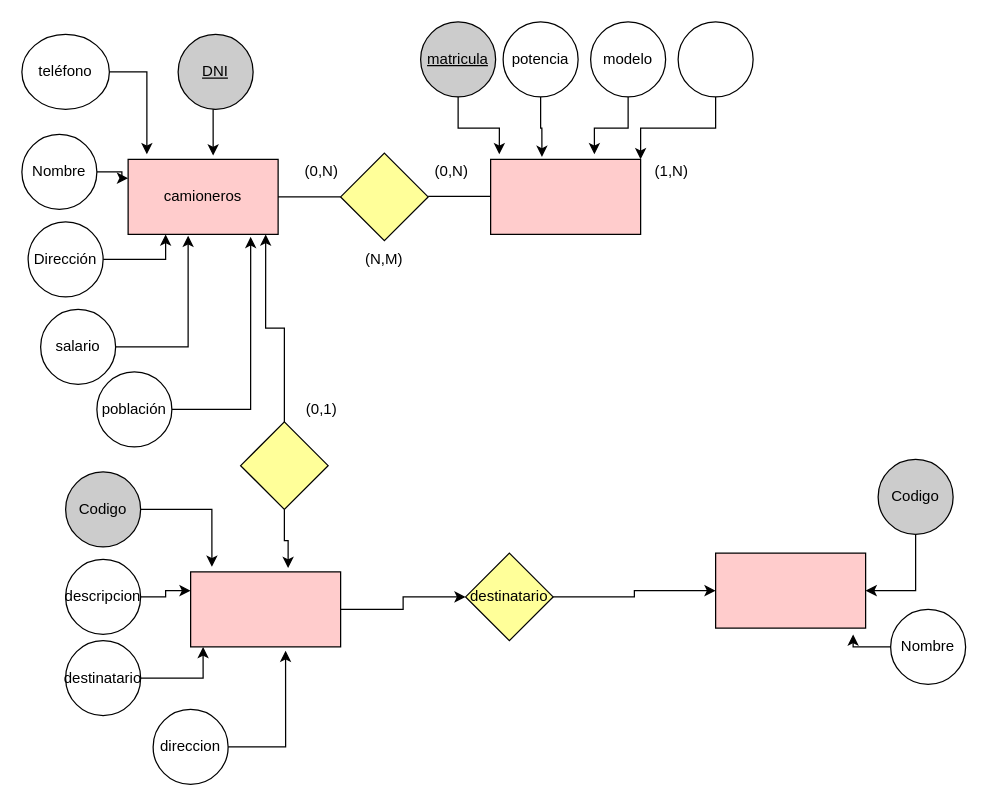
The diagram is 988 pixels wide and 806 high, and some of its shapes have lost their labels. The centre of each missing label's shape, as x and y in pixels:
camion: the point at 565,196
conduce: the point at 383,196
distribuye: the point at 283,465
paquetes: the point at 265,609
provincia: the point at 790,590
tipo: the point at 715,59
